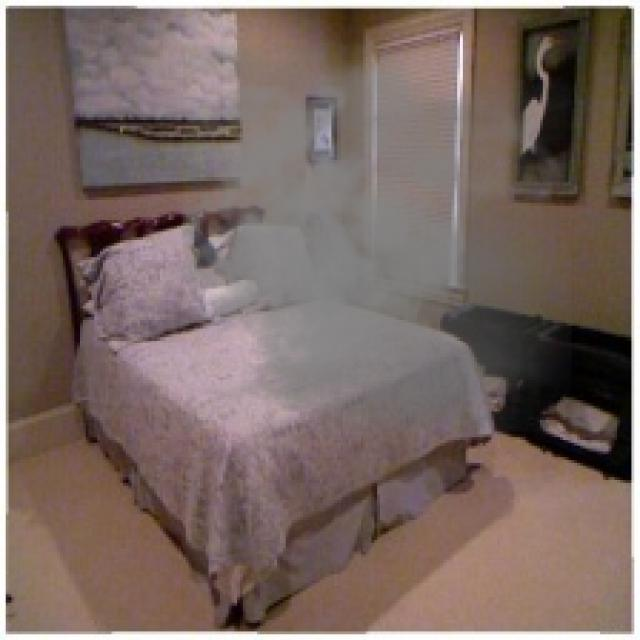smoke: (168, 43, 572, 440)
